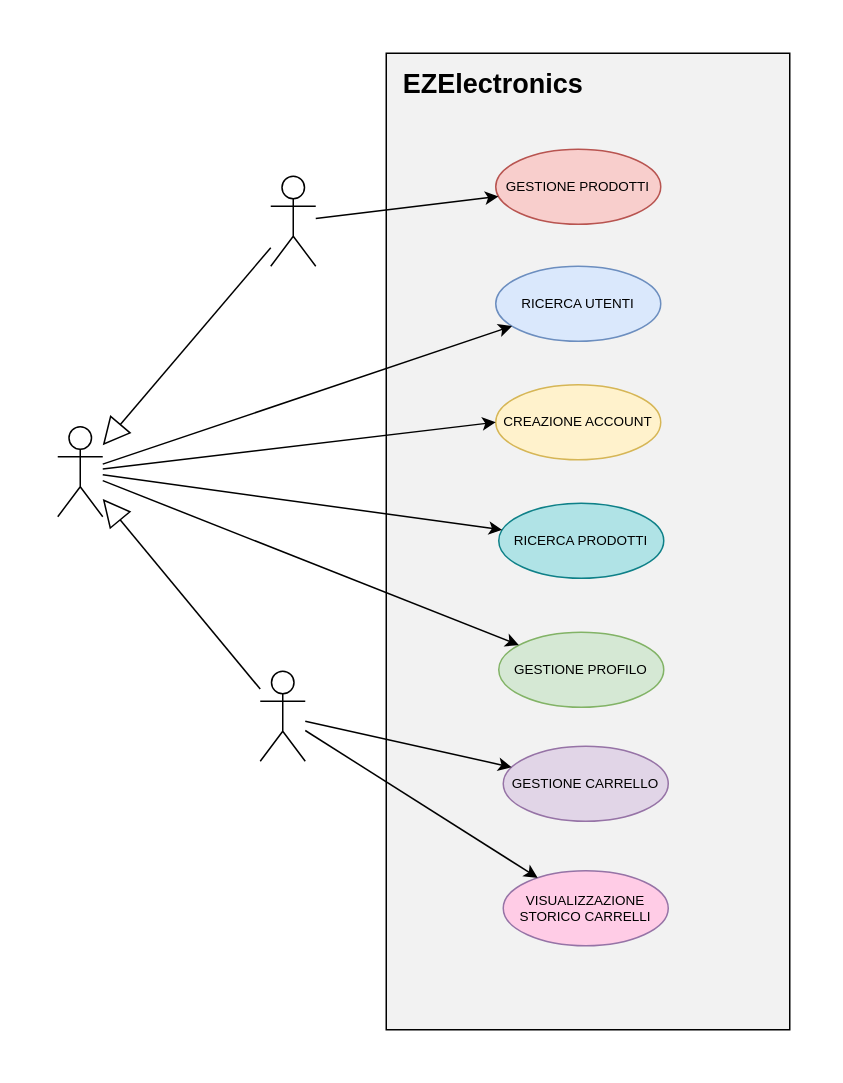
Image size: 843x1083. Some labels were removed from this diagram. Each missing label, with the centre of its shape:
"Customer" belongs at point 282,715.
"Manager" belongs at point 292,220.
"User" belongs at point 79,471.
